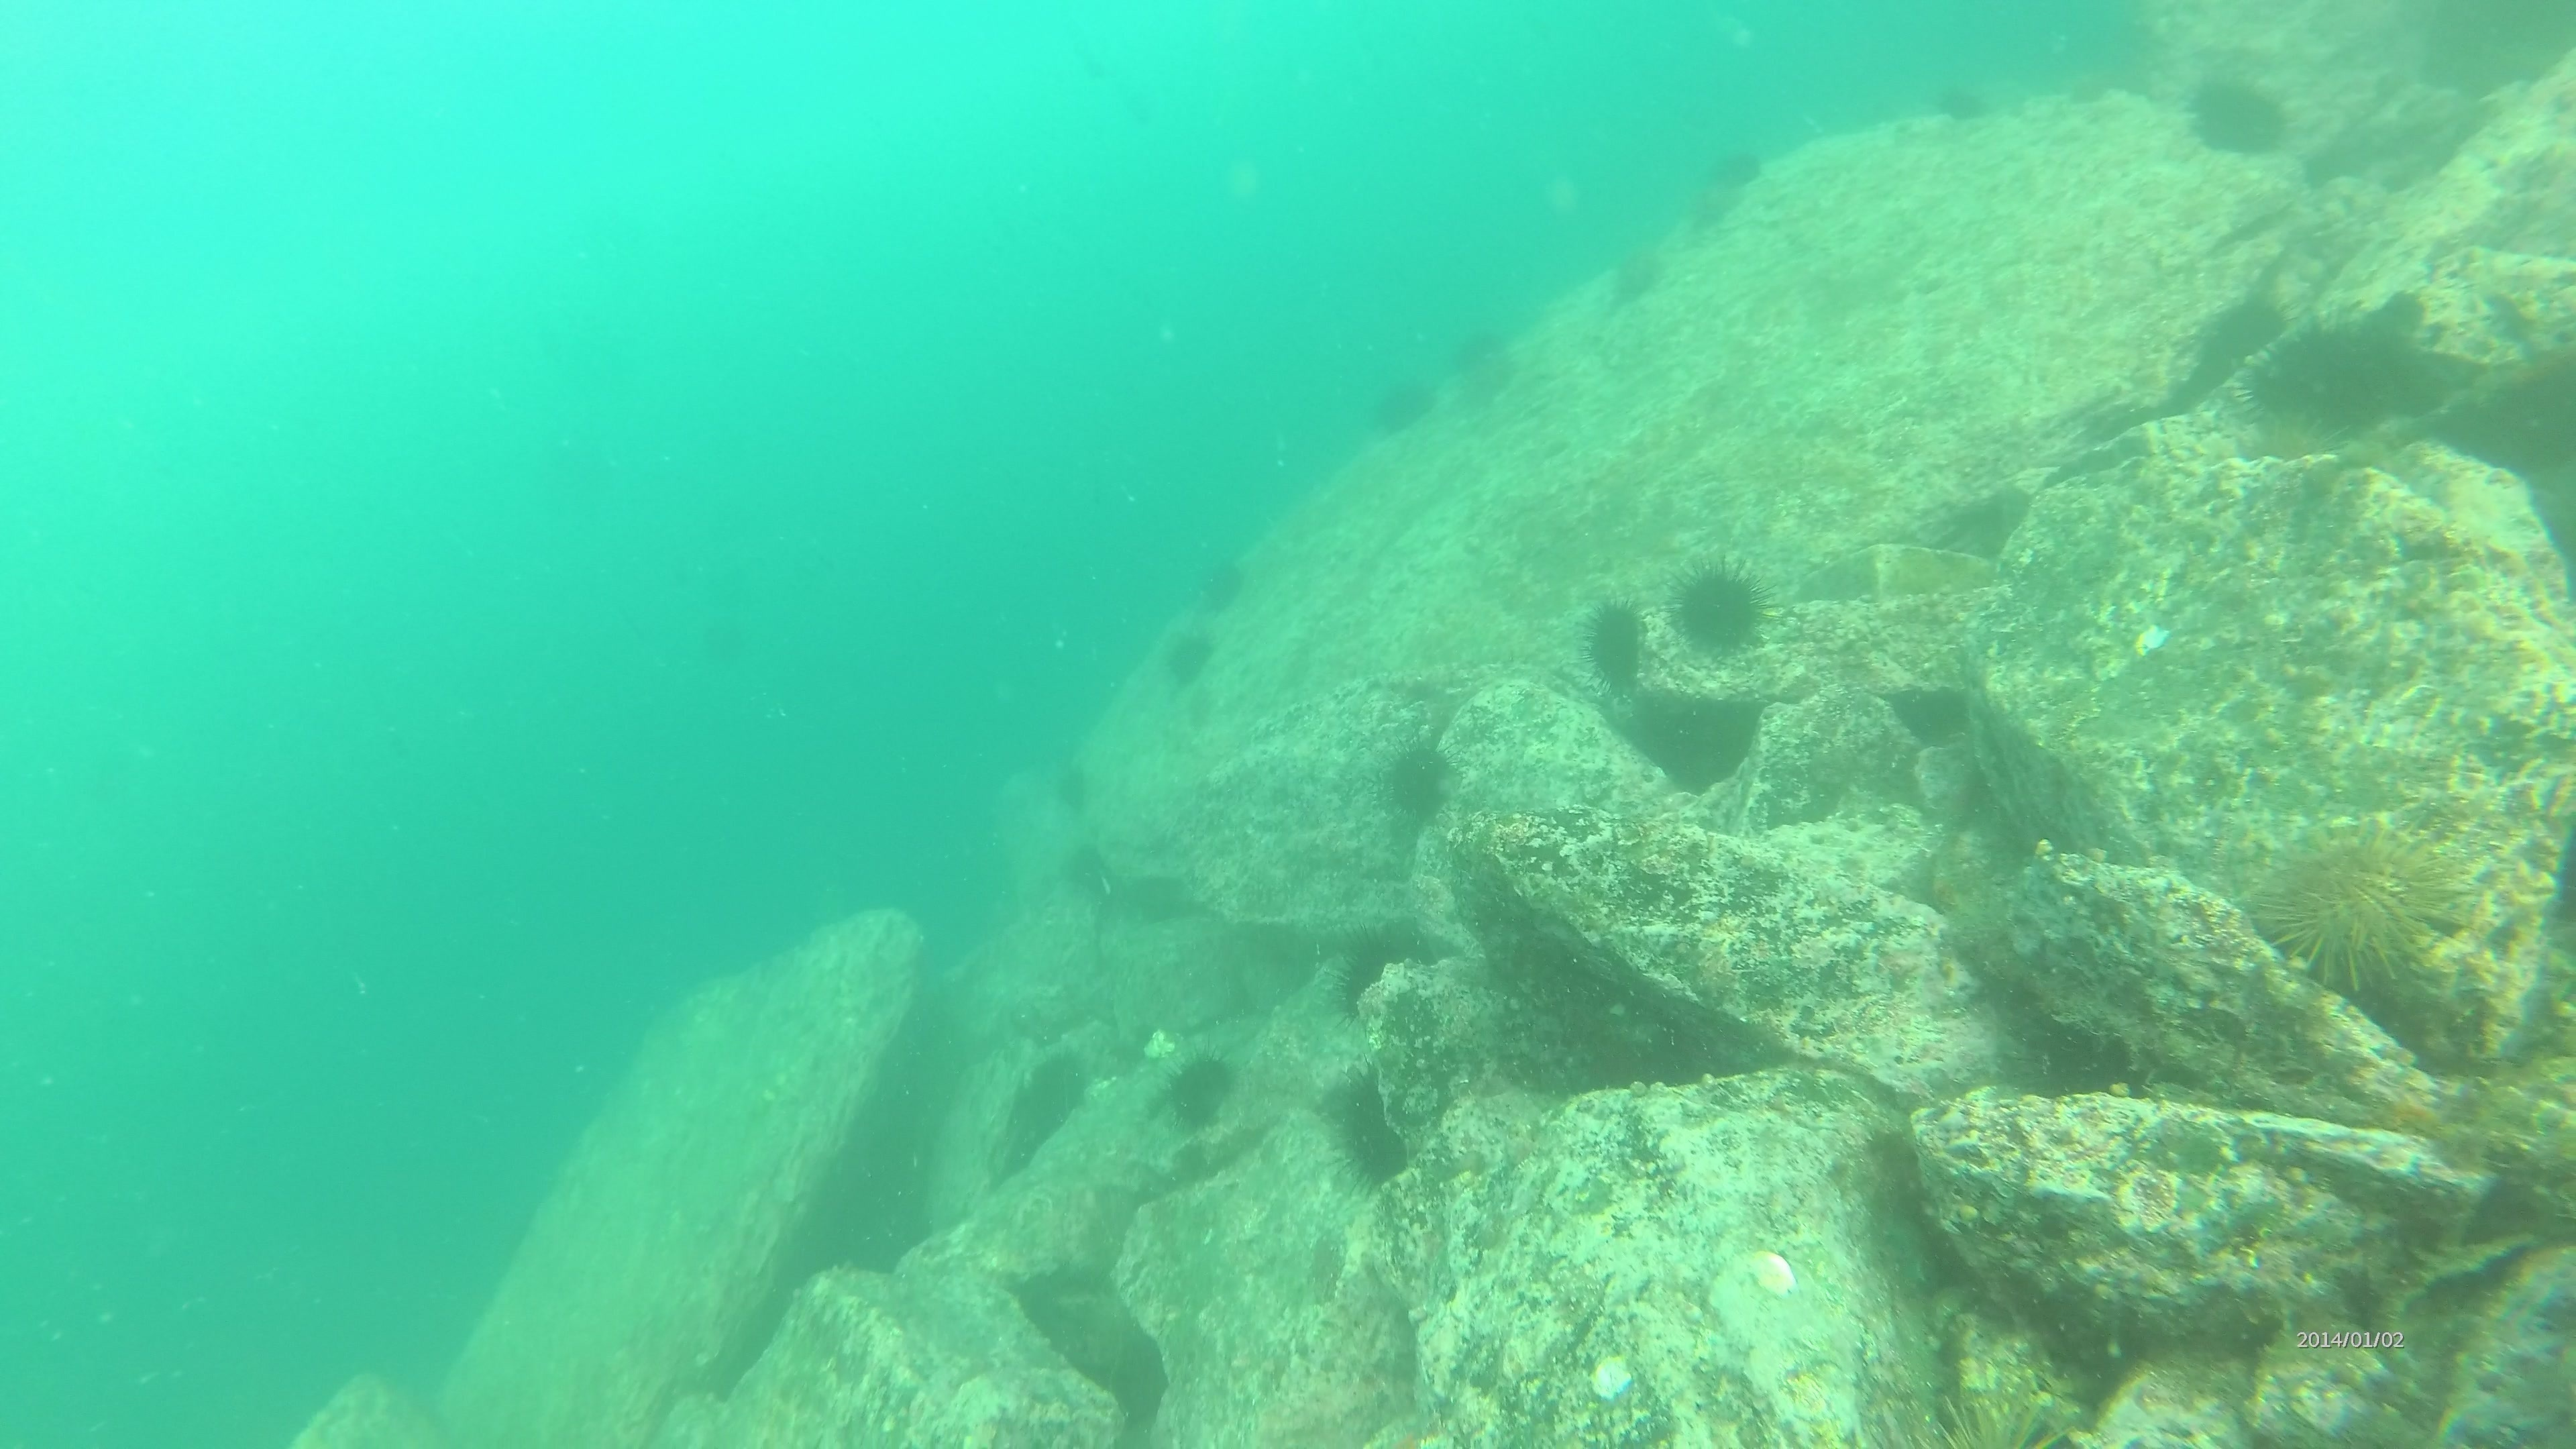echinus: (2263, 819, 2459, 991), (2240, 310, 2422, 441), (1329, 913, 1440, 1019), (1322, 1065, 1415, 1191), (1667, 556, 1775, 662), (2181, 67, 2293, 163), (1003, 1047, 1095, 1146), (1375, 731, 1460, 828), (1152, 1046, 1242, 1136), (1576, 593, 1654, 694), (1599, 234, 1672, 311), (1366, 370, 1438, 439), (1157, 621, 1221, 692), (1192, 547, 1251, 617), (1451, 359, 1518, 407), (1445, 322, 1504, 373), (1700, 140, 1767, 180), (1930, 87, 1994, 129)
